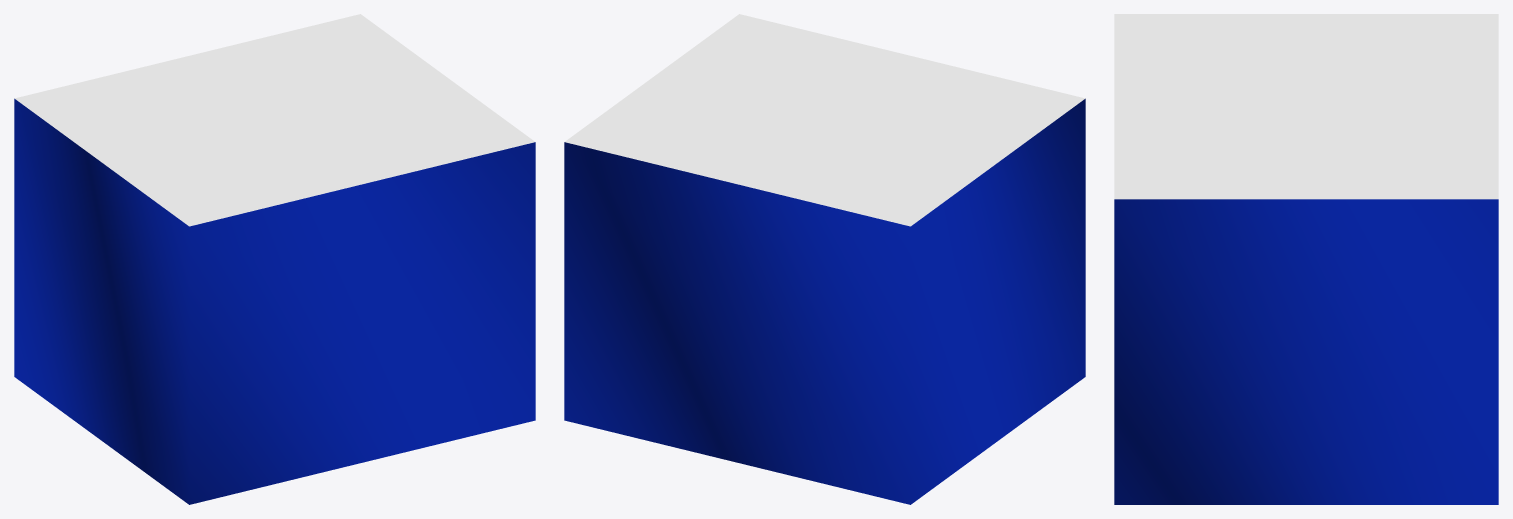
3 views of the same model, side by side, from view 1: azimuth 30°, elevation 25°; view 2: azimuth 150°, elevation 25°; view 3: azimuth 270°, elevation 25° (orthographic). The views are drawn at different scales.
Parts seen in each view (by area): view 1: Murs, Plafond; view 2: Murs, Plafond; view 3: Murs, Plafond.
Part boxes in pixels (<box>): Murs: <box>14,98,535,504</box>; Plafond: <box>14,14,534,226</box>; Murs: <box>564,98,1085,504</box>; Plafond: <box>565,14,1085,226</box>; Murs: <box>1114,199,1498,504</box>; Plafond: <box>1114,14,1498,199</box>.
Bounding box in the file's own units: 8.08 × 6.21 × 7.07.
